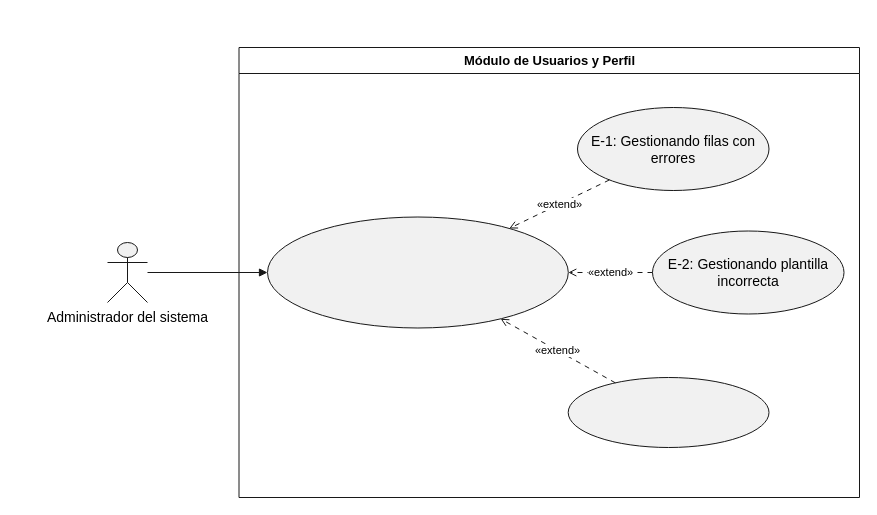
Some shapes in this 877 by 515 pixel diagram are drawn without their labels. Each missing label, with the centre of its shape:
"CU-40: Registrando concurrentemente a los empleados" belongs at point (417, 272).
"E-3: Gestionando archivo excede el límite" belongs at point (668, 412).
